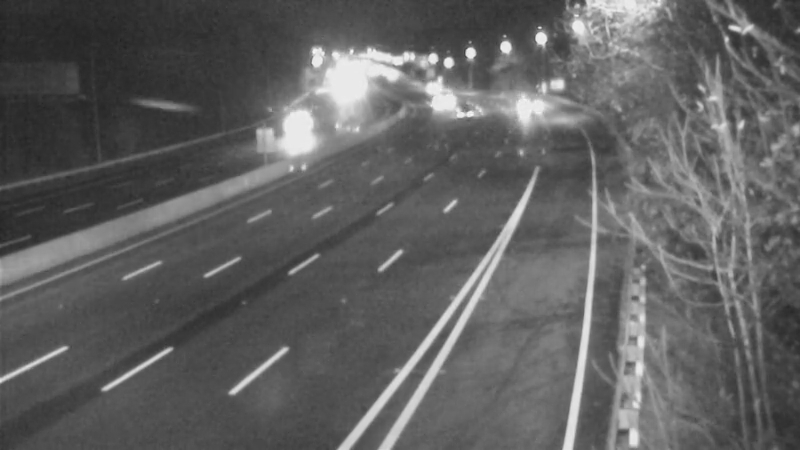vehicle: (403, 65, 453, 115), (502, 78, 552, 128), (416, 71, 466, 121), (442, 87, 492, 137), (276, 103, 326, 153)
